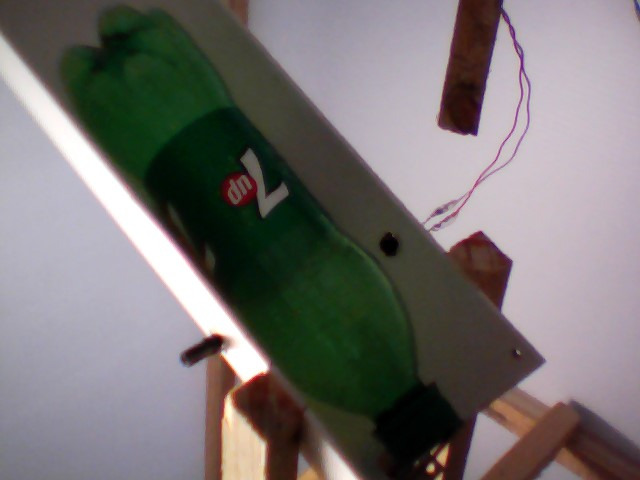plastico: (30, 1, 472, 472)
